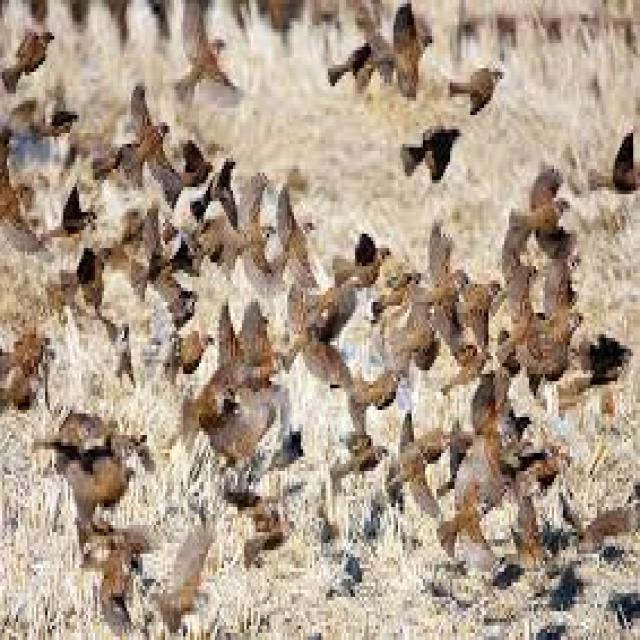bird: (217, 169, 288, 296), (506, 159, 577, 264), (119, 79, 182, 192), (176, 0, 244, 104), (412, 221, 462, 340), (44, 183, 94, 237)
